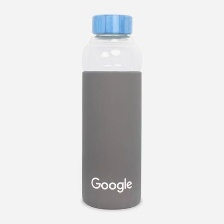bottle: (73, 9, 150, 214)
